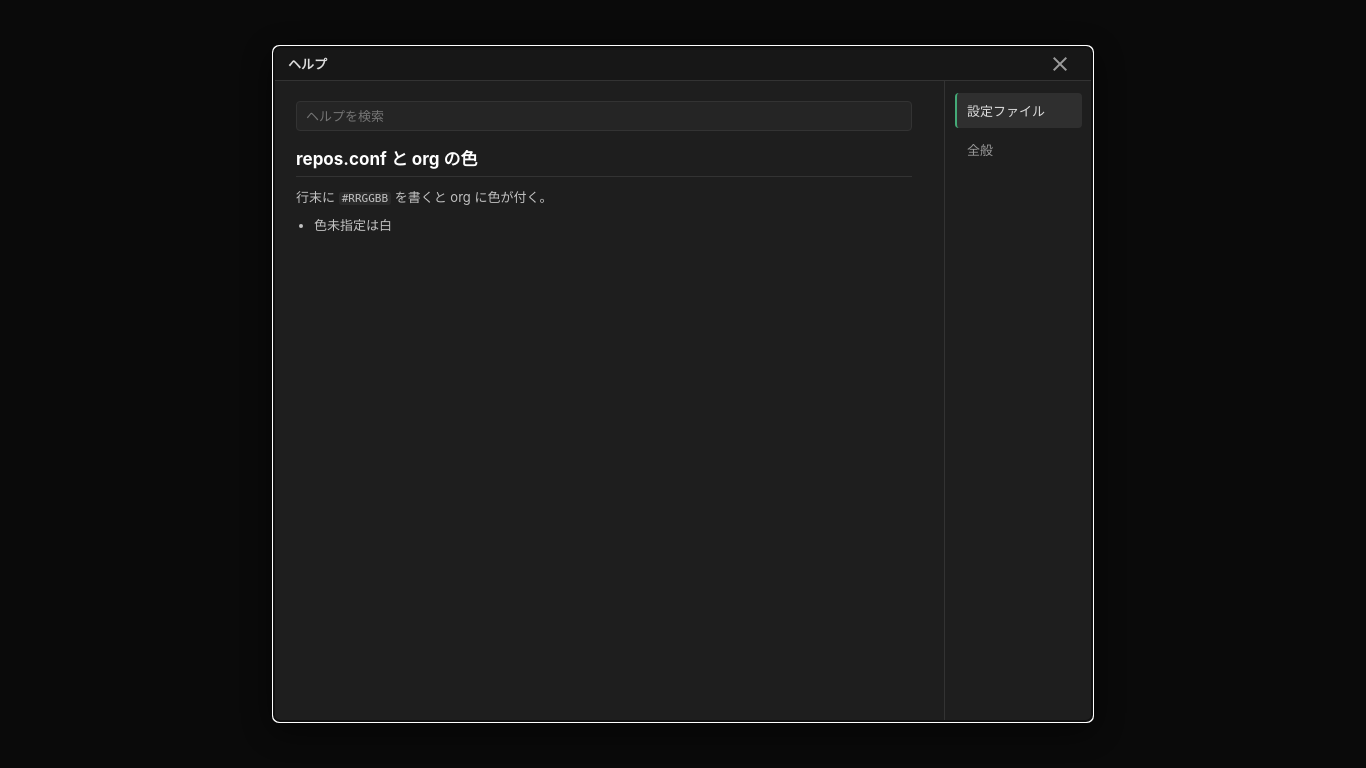
HelpModal › selecting a tab clears an active search
Type "ctrl-n" into the field labelled "ヘルプを検索".
click(604, 116); type("ctrl-n")  # box [296,101,912,131]
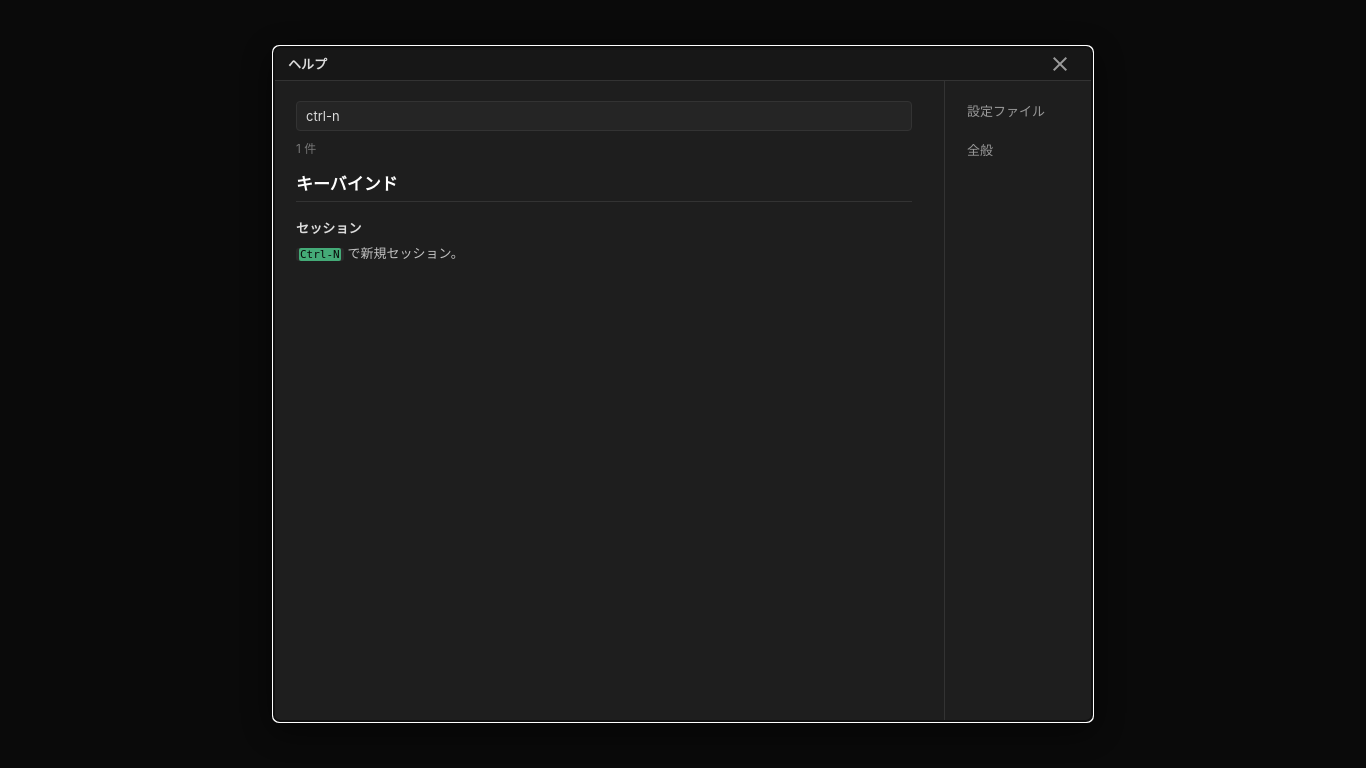
Click the tab "設定ファイル".
click(1018, 111)  # box [955,93,1082,128]
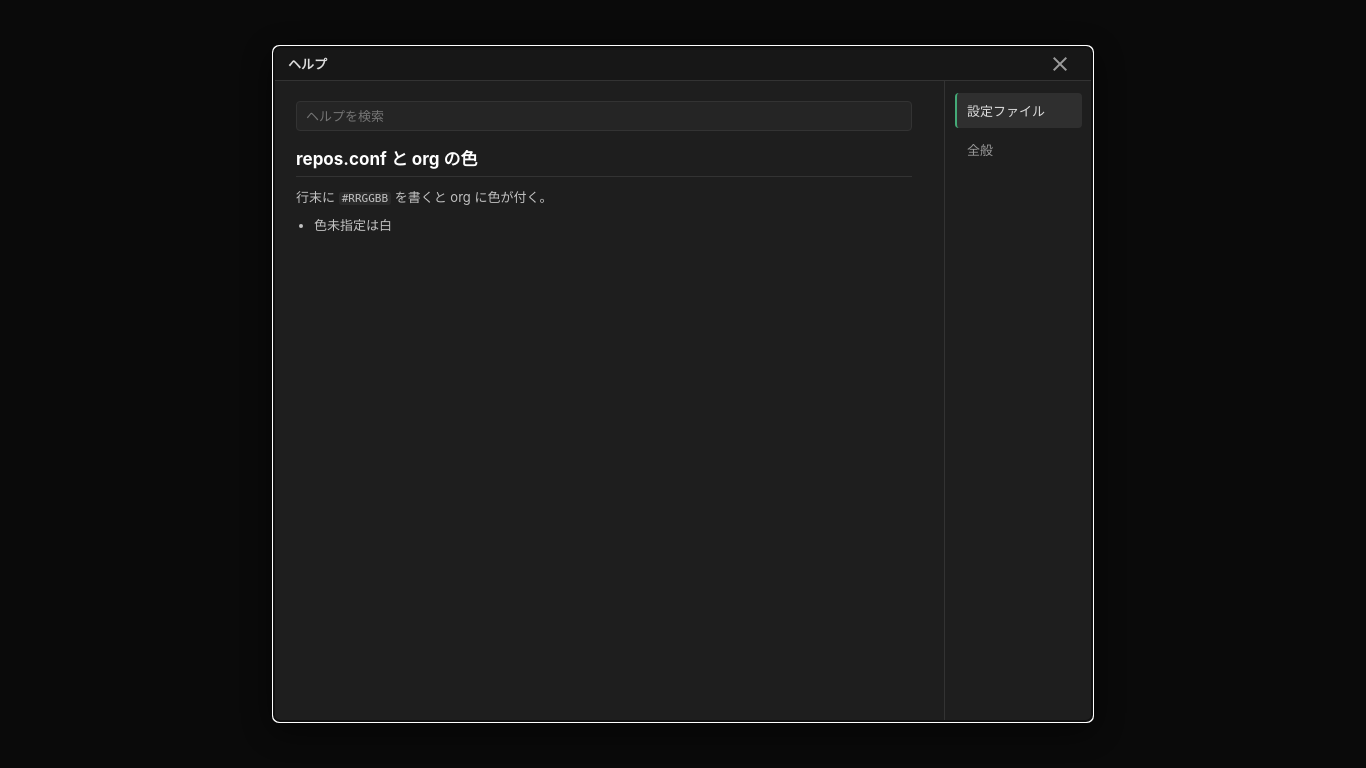
Now the field labelled "ヘルプを検索" is empty, box [296,101,912,131]
Now the heading "repos.conf と org の色" is shown, box [296,145,912,177]
